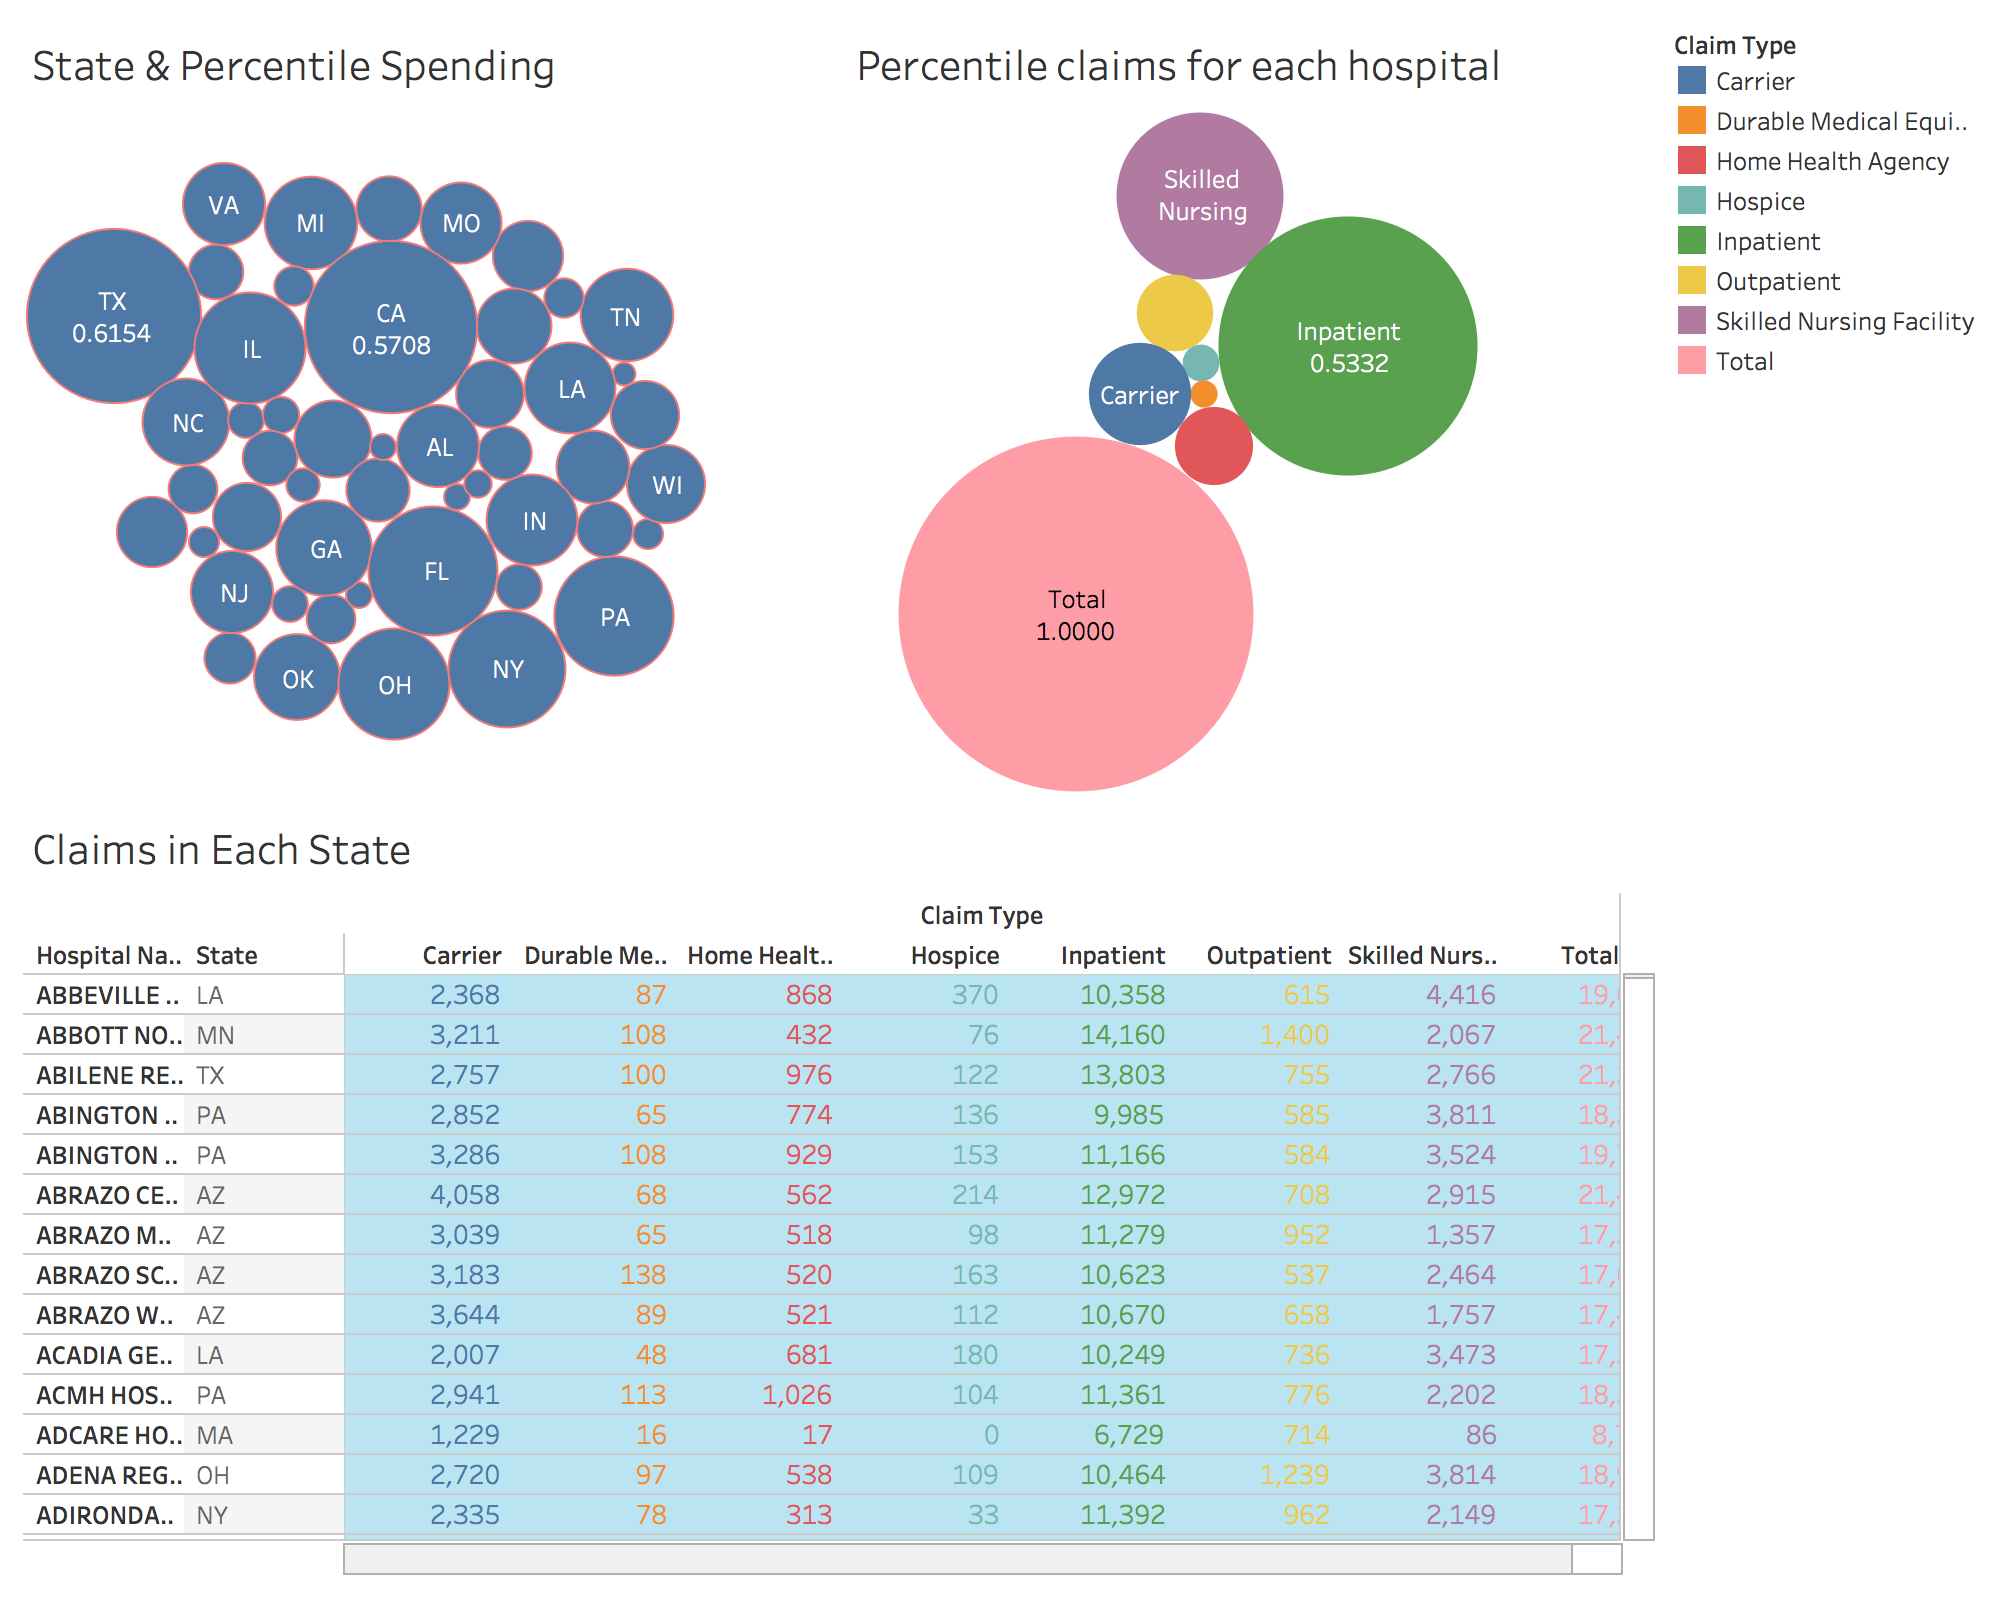

Layout of this report page (visuals, bound fields, positions):
{"tool":"tableau","page":{"name":"Dashboard 1","canvas":[1000,800],"ordinal":0},"visuals":[{"type":"worksheet","title":"State & Percentile Spending","mark":"Circle","box":[8,8,412,392]},{"type":"worksheet","title":"Percentile claims for each hospital","mark":"Circle","box":[420,8,412,392]},{"type":"legend","title":"Claims in Each State","param":"[federated.0euu7h619weiym144ybm41a84g75].[none:Claim_Type:nk]","box":[832,8,160,186]},{"type":"worksheet","title":"Claims in Each State","mark":"Automatic","rows":["Hospital_Name","State"],"cols":["Claim_Type"],"box":[8,400,824,392]}]}

Visuals, with their boxes in screenshot pixels (x1, y1, x2, y2), scaled from the page's 1000x800 canvas onto the 2000x1600 screenshot:
"State & Percentile Spending" worksheet (Circle marks): 16,16,840,800
"Percentile claims for each hospital" worksheet (Circle marks): 840,16,1664,800
"Claims in Each State" legend: 1664,16,1984,388
"Claims in Each State" worksheet: 16,800,1664,1584
